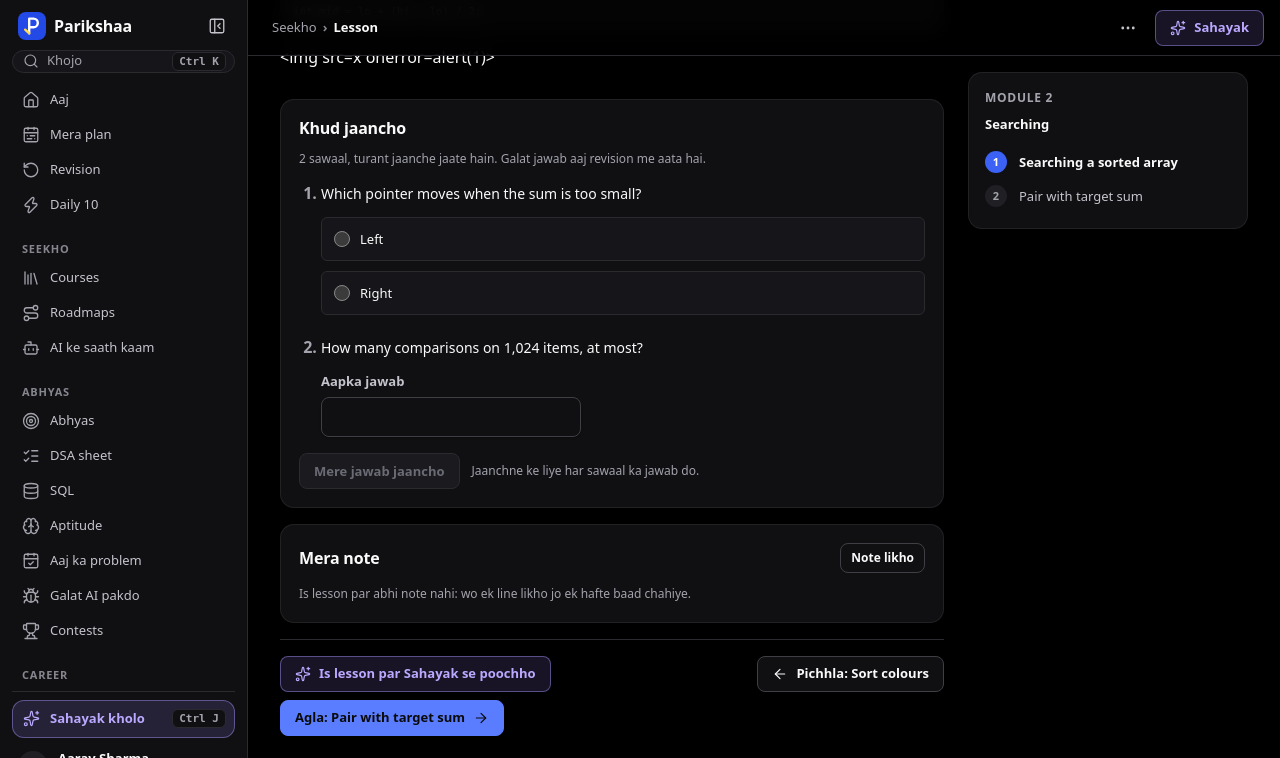
Test case: the lesson reader › writes the learner's note on the lesson and shows it as Markdown
The image size is (1280, 758).
(page scrolled)
Expected: the text "Is lesson par abhi note nahi: wo ek line likho jo ek hafte baad chahiye." is shown, [299,585,691,602]
Click the button "Note likho" at (883, 558), box [840,543,925,573]
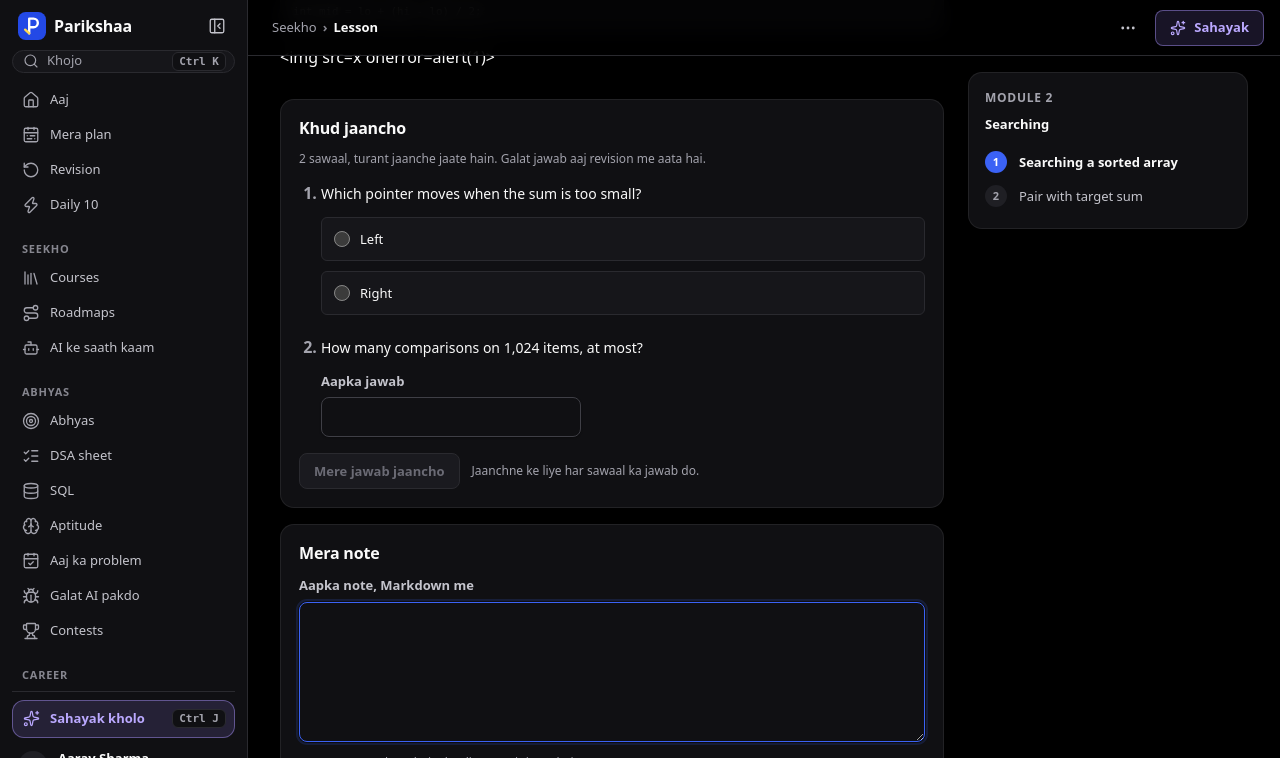
Type "Mid without **overflow**." into the text box labelled "Aapka note, Markdown me" at (612, 672), box [299,602,925,742]
(page scrolled)
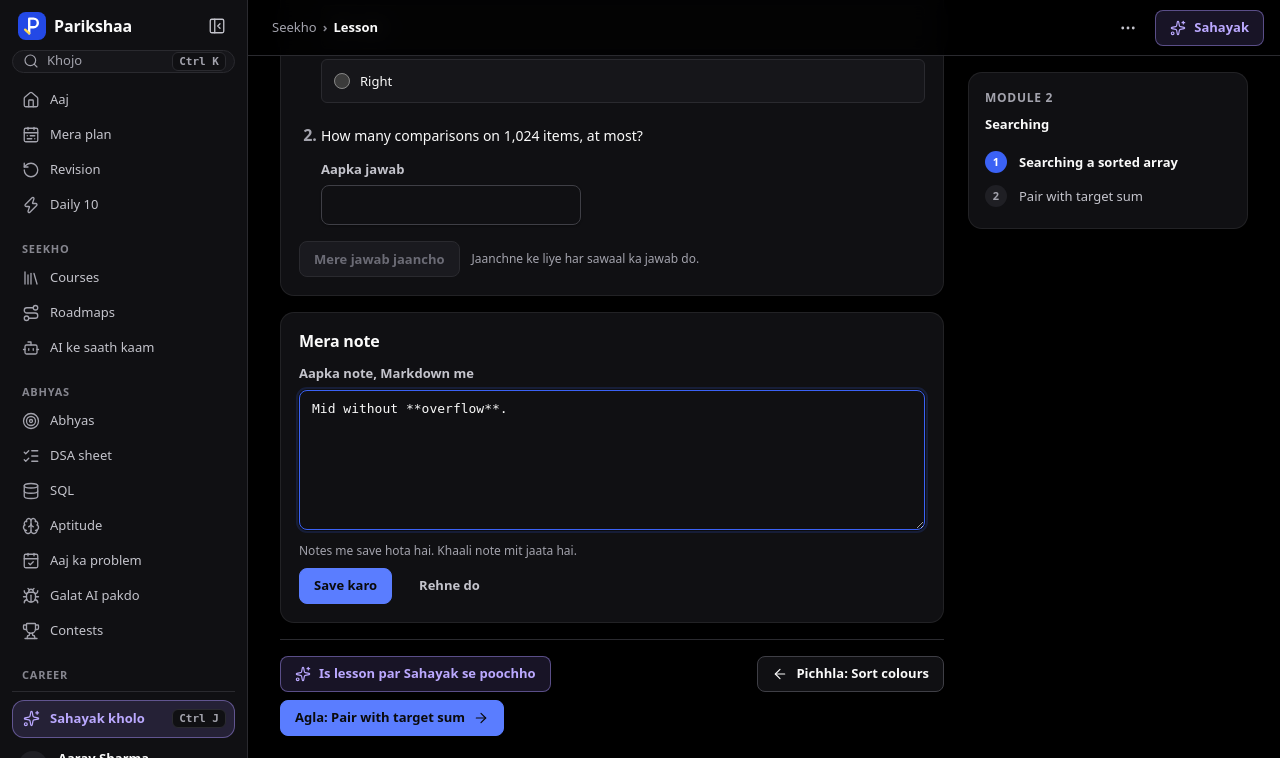
Click the button "Save karo" at (346, 586), box [299,568,392,604]
(page scrolled)
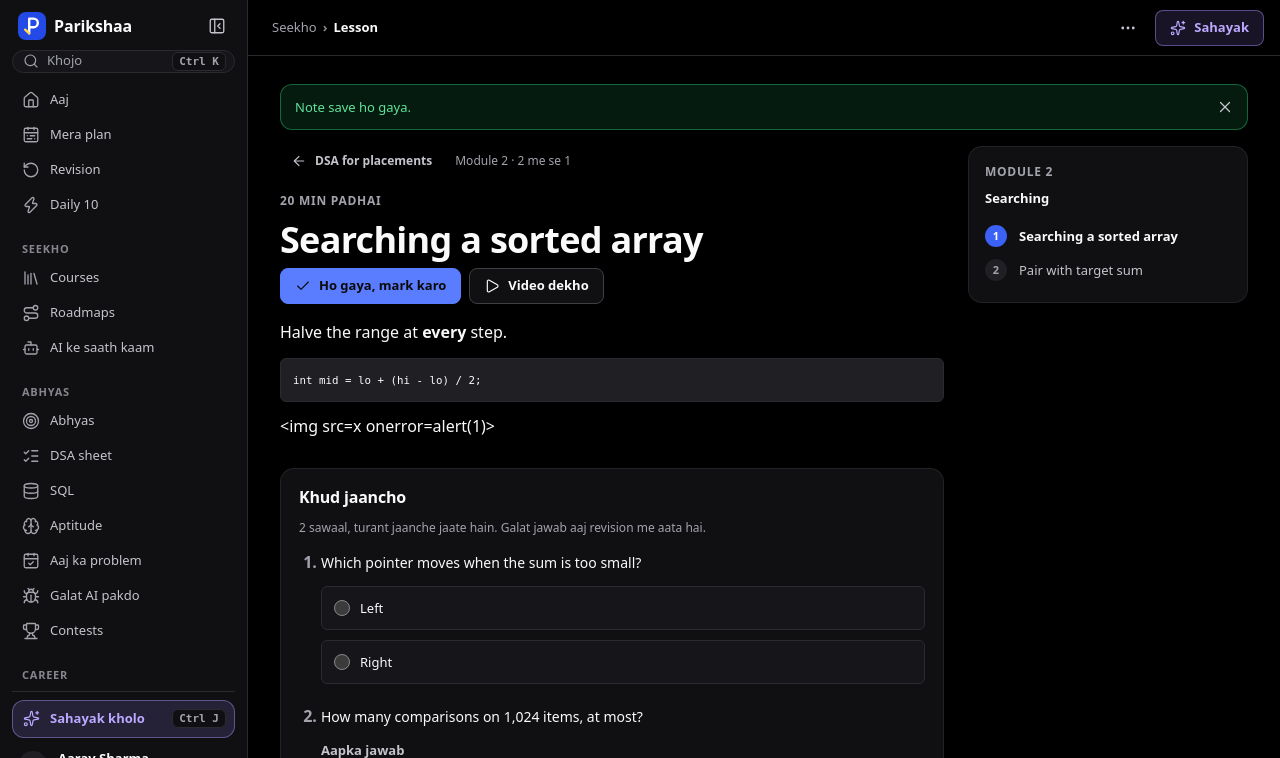
Expected: the text "Note save ho gaya." is shown, [295,98,411,116]
